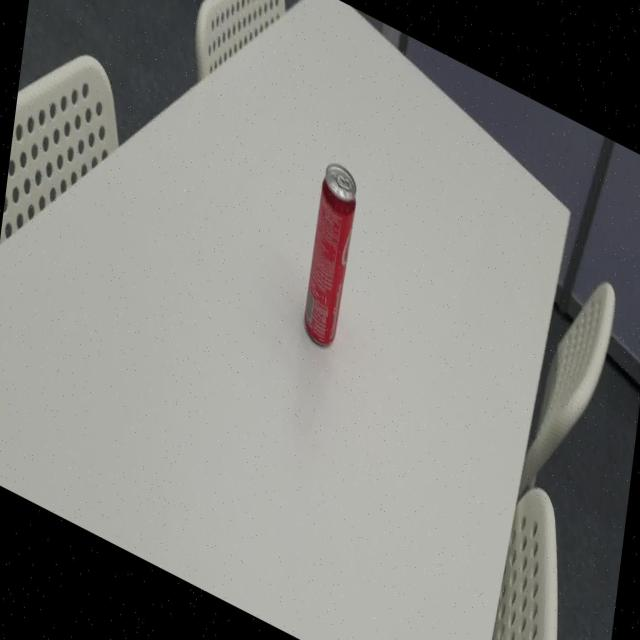coca-cola: (299, 150, 361, 363)
